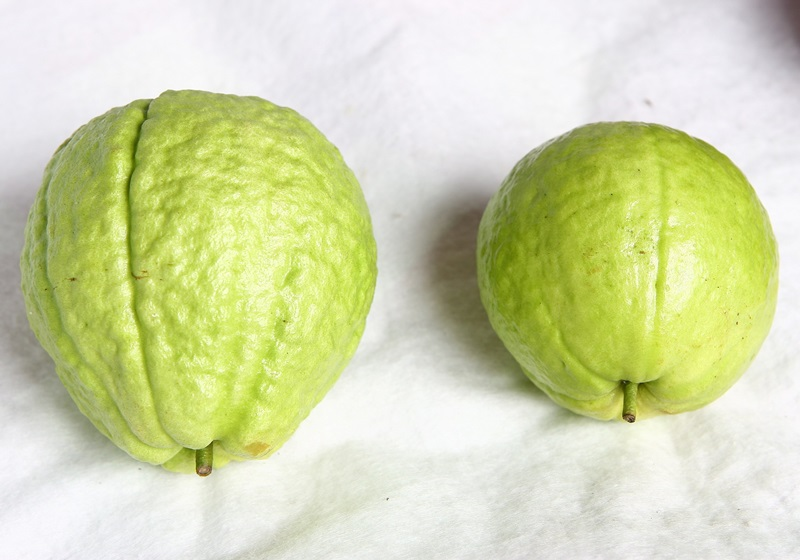guava: (18, 93, 380, 474), (474, 119, 782, 428)
